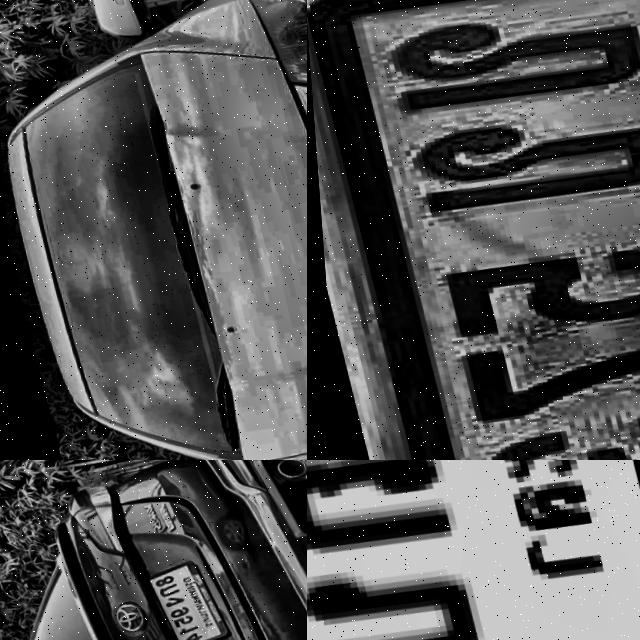license-plate: (307, 0, 640, 460), (307, 460, 640, 640), (134, 551, 235, 640)
